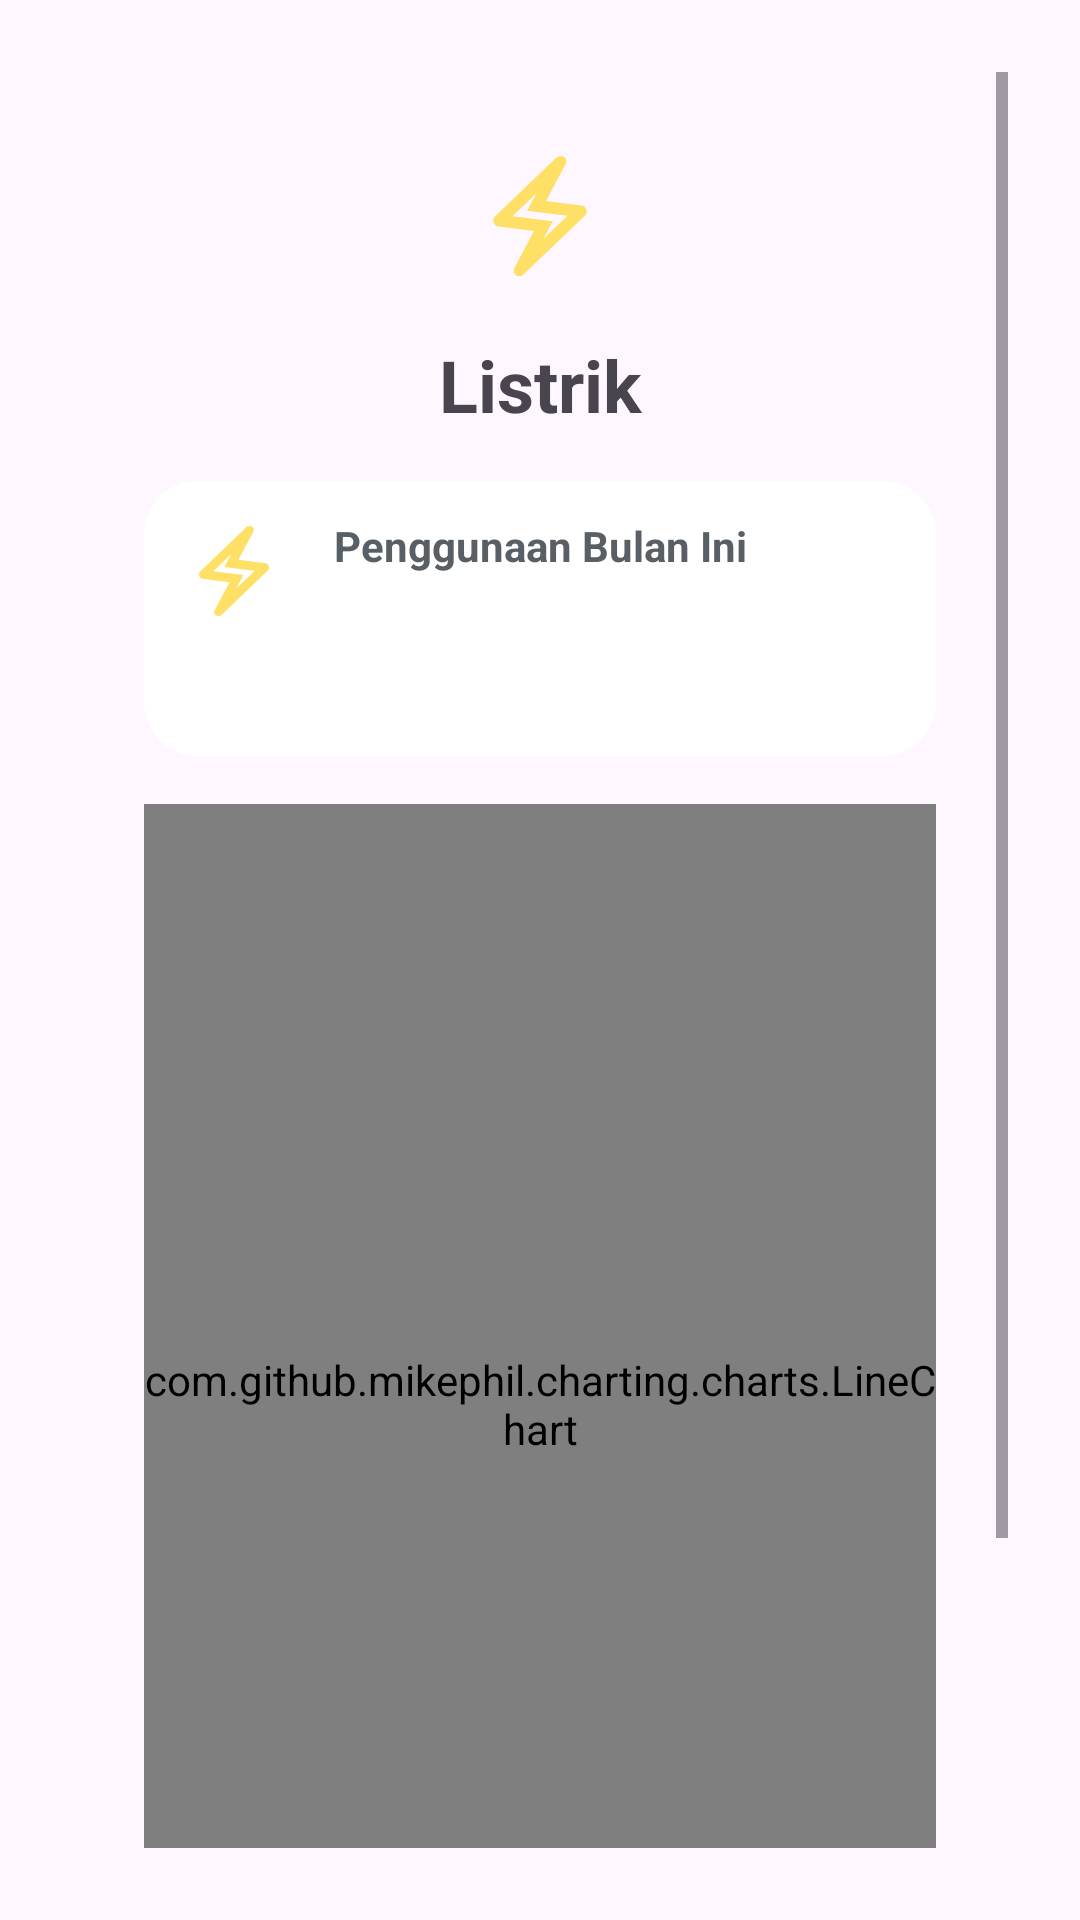

Where to tap for icons on this 1080px×1920px app screen, as point (x, y):
electric bolt: point (540, 216), point (234, 571)
